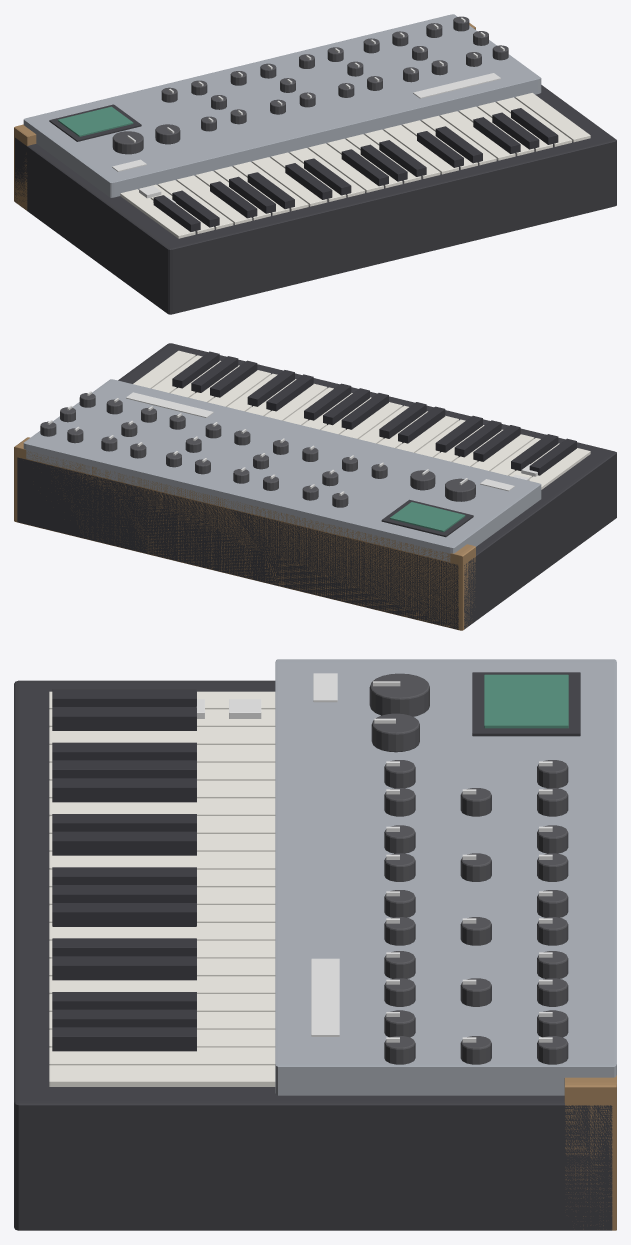
The model's file is minilogue_v09.glb.
The picture shows the model from 3 angles, top to bottom: view 1: azimuth 30°, elevation 25°; view 2: azimuth 150°, elevation 25°; view 3: azimuth 270°, elevation 25°; orthographic projection. The views are drawn at different scales.
Visible parts, largest first — view 1: Base, Panel, Screen, W21, W0, W17, W7, W3, W10, W14, Wood, B.005 (+32 smaller); view 2: Base, Panel, Wood, Screen, W21, W0, ScrFrame, B.003, B.005, B.010, B.002, B.009 (+24 smaller); view 3: Panel, Base, W21, Screen, W20, B.004, B.006, B.011, B.014, B.001, B.009, Wood (+56 smaller).
Part boxes in pixels (bbox=[...]): Base: bbox=[15, 85, 616, 314]; Panel: bbox=[23, 14, 541, 197]; Screen: bbox=[58, 106, 133, 136]; W21: bbox=[515, 93, 590, 142]; W0: bbox=[120, 189, 195, 238]; W17: bbox=[440, 111, 515, 160]; W7: bbox=[252, 157, 327, 206]; W3: bbox=[176, 175, 252, 224]; W10: bbox=[308, 143, 383, 192]; W14: bbox=[383, 125, 458, 174]; Wood: bbox=[14, 23, 475, 210]; B.005: bbox=[285, 163, 332, 201]; Base: bbox=[17, 343, 616, 629]; Panel: bbox=[23, 379, 541, 562]; Wood: bbox=[14, 437, 475, 630]; Screen: bbox=[390, 502, 465, 532]; W21: bbox=[133, 350, 195, 388]; W0: bbox=[529, 448, 590, 489]; ScrFrame: bbox=[381, 499, 473, 537]; B.003: bbox=[454, 420, 501, 457]; B.005: bbox=[398, 406, 445, 443]; B.010: bbox=[266, 374, 313, 411]; B.002: bbox=[473, 425, 520, 461]; B.009: bbox=[304, 383, 351, 420]; Panel: bbox=[275, 659, 616, 1095]; Base: bbox=[14, 680, 612, 1230]; W21: bbox=[49, 1065, 275, 1086]; Screen: bbox=[484, 674, 568, 728]; W20: bbox=[49, 1047, 275, 1065]; B.004: bbox=[52, 778, 196, 802]; B.006: bbox=[52, 831, 196, 855]; B.011: bbox=[52, 956, 196, 980]; B.014: bbox=[52, 1027, 196, 1051]; B.001: bbox=[52, 707, 196, 730]; B.009: bbox=[52, 903, 196, 926]; Wood: bbox=[564, 1075, 616, 1230].
Size of the model in its own units: 5 by 1.05 by 3.
